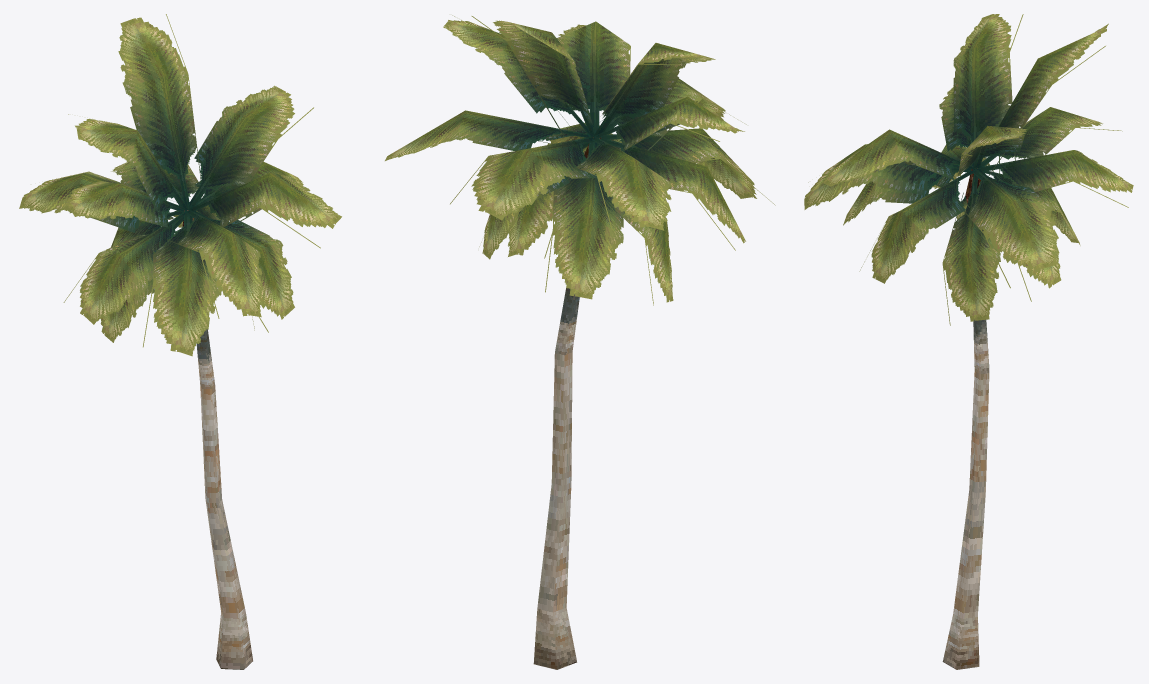
File: stage-sanf-p2-63.glb
3 views of the same model, side by side, from view 1: azimuth 30°, elevation 25°; view 2: azimuth 150°, elevation 25°; view 3: azimuth 270°, elevation 25° (orthographic). The views are drawn at different scales.
Size of the model in its own units: 9.99 by 20.56 by 9.94.
1 material, 1 textured.
